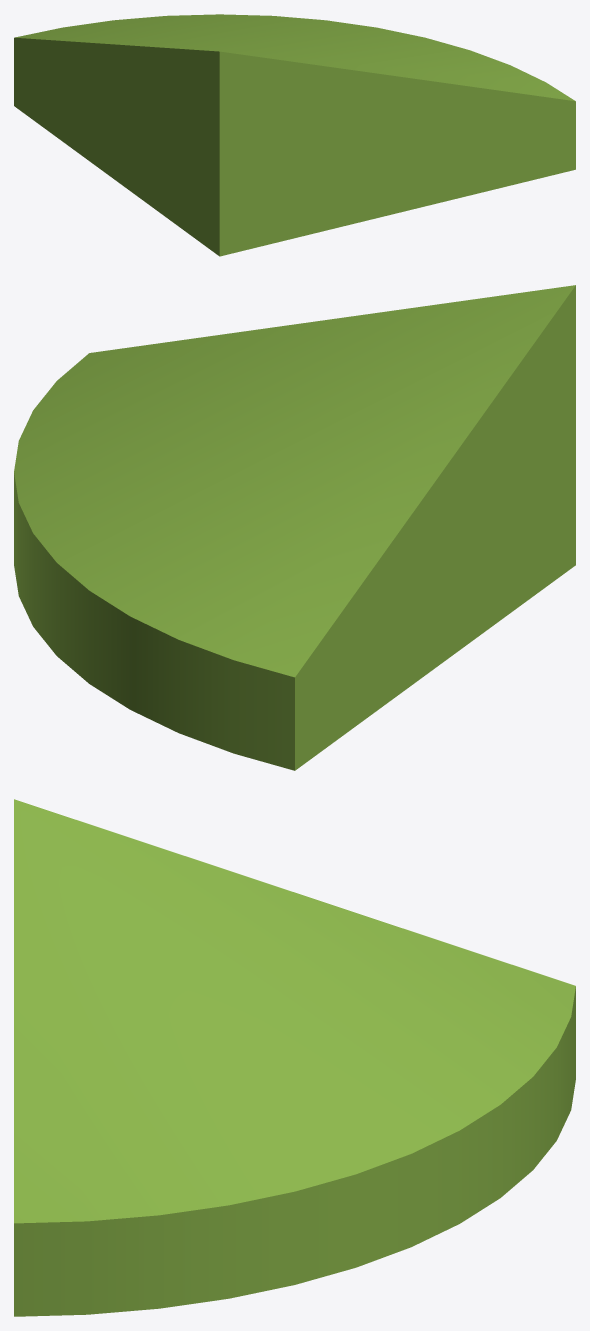
Rendered from roadTile_021.obj.
The picture shows the model from 3 angles, top to bottom: view 1: azimuth 30°, elevation 25°; view 2: azimuth 150°, elevation 25°; view 3: azimuth 270°, elevation 25°; orthographic projection. The views are drawn at different scales.
Visible parts, largest first — view 1: Mesh1_Group1_Model.237; view 2: Mesh1_Group1_Model.237; view 3: Mesh1_Group1_Model.237.
Boxes of the visible parts, box(x1,y1,x2,y2) form: Mesh1_Group1_Model.237: box(14, 14, 575, 256); Mesh1_Group1_Model.237: box(14, 285, 575, 770); Mesh1_Group1_Model.237: box(14, 799, 575, 1316).
Size of the model in its own units: 3 by 1.65 by 3.
